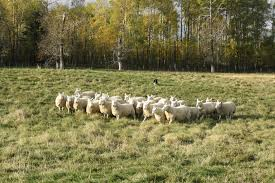sheep: (110, 100, 135, 124), (159, 101, 188, 121), (196, 101, 221, 122), (216, 99, 232, 125), (50, 90, 67, 113), (140, 101, 161, 119), (95, 98, 112, 120), (83, 97, 99, 117), (72, 89, 96, 102), (134, 100, 147, 124), (73, 94, 89, 112), (62, 90, 75, 110), (164, 94, 180, 110), (122, 93, 141, 105), (147, 94, 162, 102)
